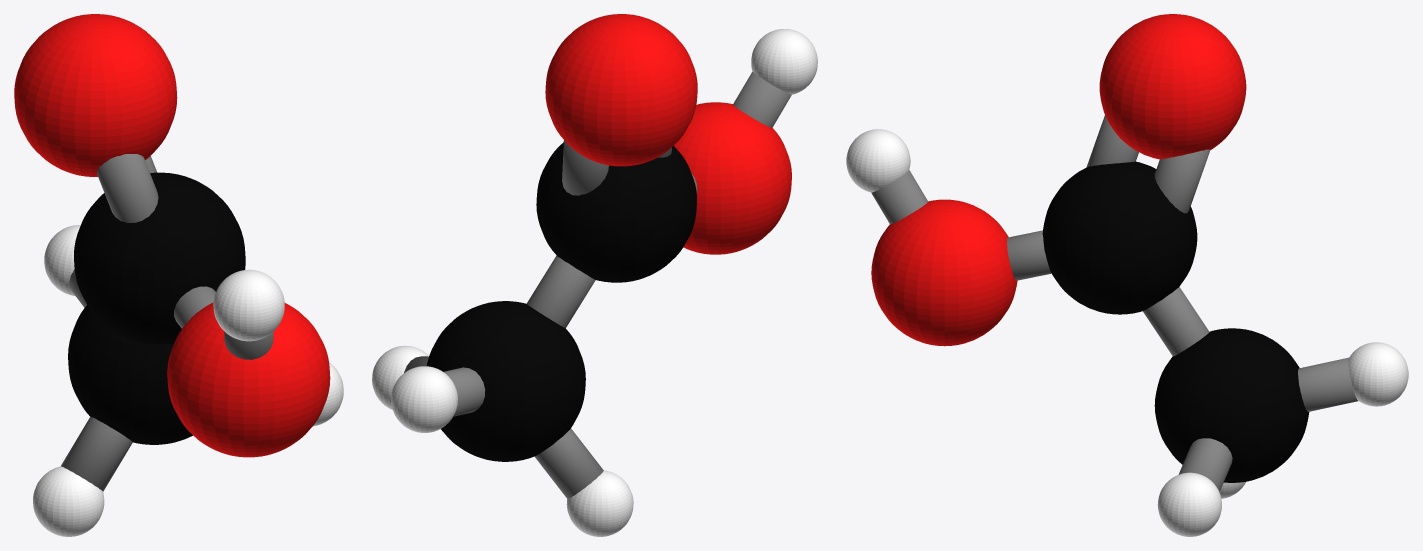
Rendered from ETANOICO.obj.
3 views of the same model, side by side, from view 1: azimuth 30°, elevation 25°; view 2: azimuth 150°, elevation 25°; view 3: azimuth 270°, elevation 25° (orthographic). The views are drawn at different scales.
Visible parts, largest first — view 1: Oxygen_ball_Sphere.001, Carbon_ball_Sphere.002, Hydrogen_ball_Sphere, Stick_Cylinder.004_Cylinder.004, Stick_Cylinder.002_Cylinder.002, Stick_Cylinder.003_Cylinder.003, Stick_Cylinder.001_Cylinder.001; view 2: Carbon_ball_Sphere.002, Oxygen_ball_Sphere.001, Hydrogen_ball_Sphere, Stick_Cylinder.006_Cylinder.006, Stick_Cylinder.002_Cylinder.002, Stick_Cylinder.001_Cylinder.001, Stick_Cylinder.007_Cylinder.007, Stick_Cylinder_Cylinder; view 3: Carbon_ball_Sphere.002, Oxygen_ball_Sphere.001, Hydrogen_ball_Sphere, Stick_Cylinder.006_Cylinder.006, Stick_Cylinder_Cylinder, Stick_Cylinder.007_Cylinder.007, Stick_Cylinder.005_Cylinder.005, Stick_Cylinder.001_Cylinder.001, Stick_Cylinder.003_Cylinder.003, Stick_Cylinder.004_Cylinder.004.
Part boxes in pixels (x1,y1,x2,y2): Oxygen_ball_Sphere.001: [14, 14, 330, 457]; Carbon_ball_Sphere.002: [68, 172, 245, 444]; Hydrogen_ball_Sphere: [33, 225, 343, 536]; Stick_Cylinder.004_Cylinder.004: [97, 154, 158, 222]; Stick_Cylinder.002_Cylinder.002: [61, 416, 132, 491]; Stick_Cylinder.003_Cylinder.003: [174, 286, 215, 328]; Stick_Cylinder.001_Cylinder.001: [224, 331, 273, 359]; Carbon_ball_Sphere.002: [426, 142, 696, 461]; Oxygen_ball_Sphere.001: [545, 14, 791, 254]; Hydrogen_ball_Sphere: [372, 29, 817, 536]; Stick_Cylinder.006_Cylinder.006: [526, 255, 595, 328]; Stick_Cylinder.002_Cylinder.002: [534, 428, 603, 498]; Stick_Cylinder.001_Cylinder.001: [733, 71, 791, 127]; Stick_Cylinder.007_Cylinder.007: [562, 140, 608, 195]; Stick_Cylinder_Cylinder: [444, 367, 485, 416]; Carbon_ball_Sphere.002: [1042, 161, 1309, 482]; Oxygen_ball_Sphere.001: [871, 14, 1246, 346]; Hydrogen_ball_Sphere: [846, 129, 1408, 536]; Stick_Cylinder.006_Cylinder.006: [1143, 287, 1209, 356]; Stick_Cylinder_Cylinder: [1298, 357, 1357, 411]; Stick_Cylinder.007_Cylinder.007: [1154, 149, 1210, 213]; Stick_Cylinder.005_Cylinder.005: [1178, 438, 1232, 491]; Stick_Cylinder.001_Cylinder.001: [871, 170, 927, 224]; Stick_Cylinder.003_Cylinder.003: [1007, 230, 1051, 280]; Stick_Cylinder.004_Cylinder.004: [1086, 115, 1138, 167].
Bounding box in the file's own units: 3.01 × 4.7 × 5.04.
